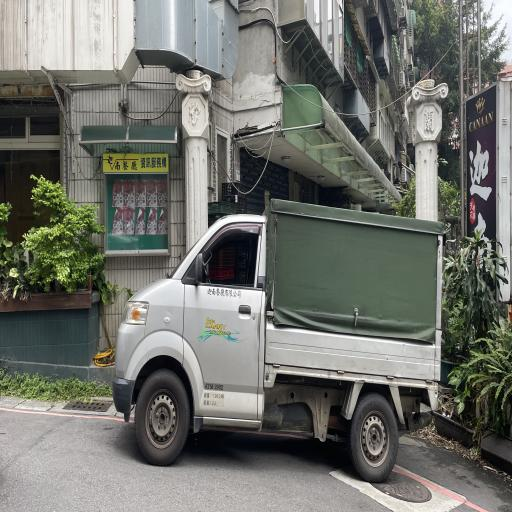MIU: (100, 357, 200, 474), (340, 370, 421, 504)
car: (104, 174, 450, 481)
redline: (382, 444, 491, 512), (0, 392, 137, 439)
